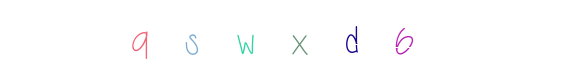6: (362, 0, 442, 80)
D: (312, 0, 392, 80)
Q: (101, 0, 181, 80)
S: (225, 0, 305, 80)
W: (238, 0, 318, 80)
X: (250, 0, 330, 80)
